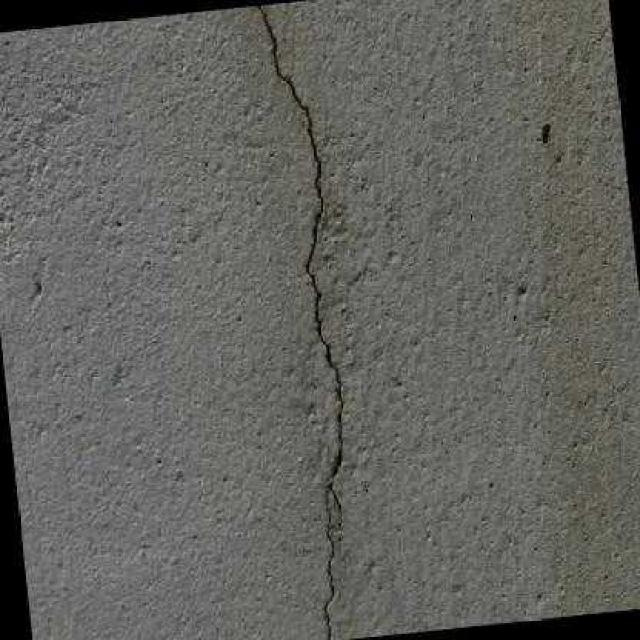D00: (256, 5, 343, 540), (325, 499, 334, 640)
